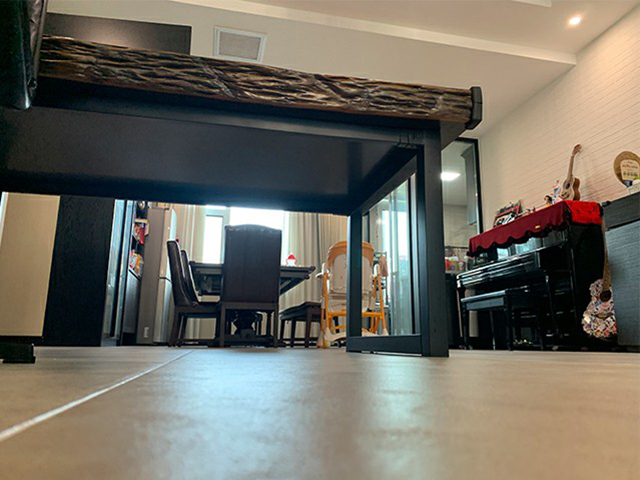cabinet: (42, 194, 149, 349), (603, 190, 639, 352)
stool: (218, 222, 282, 349), (165, 239, 223, 350), (459, 284, 547, 351), (279, 301, 342, 349)
table: (1, 35, 485, 362)
